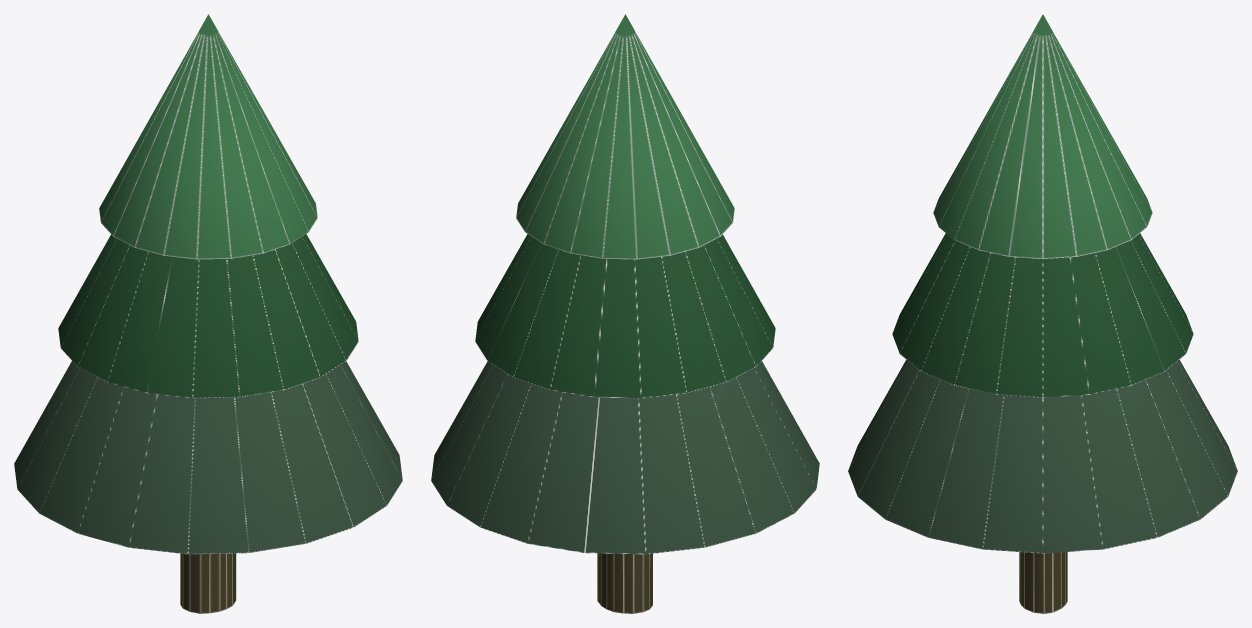
Rendered from sm_tree_1.fbx.
3 views of the same model, side by side, from view 1: azimuth 30°, elevation 25°; view 2: azimuth 150°, elevation 25°; view 3: azimuth 270°, elevation 25° (orthographic).
Visible parts, largest first — view 1: Truck; view 2: Truck; view 3: Truck.
Part boxes in pixels (x1,y1,x2,y2): Truck: (14,14,402,613); Truck: (431,14,819,613); Truck: (848,14,1237,613).
Bounding box in the file's own units: 210 × 350 × 210.
